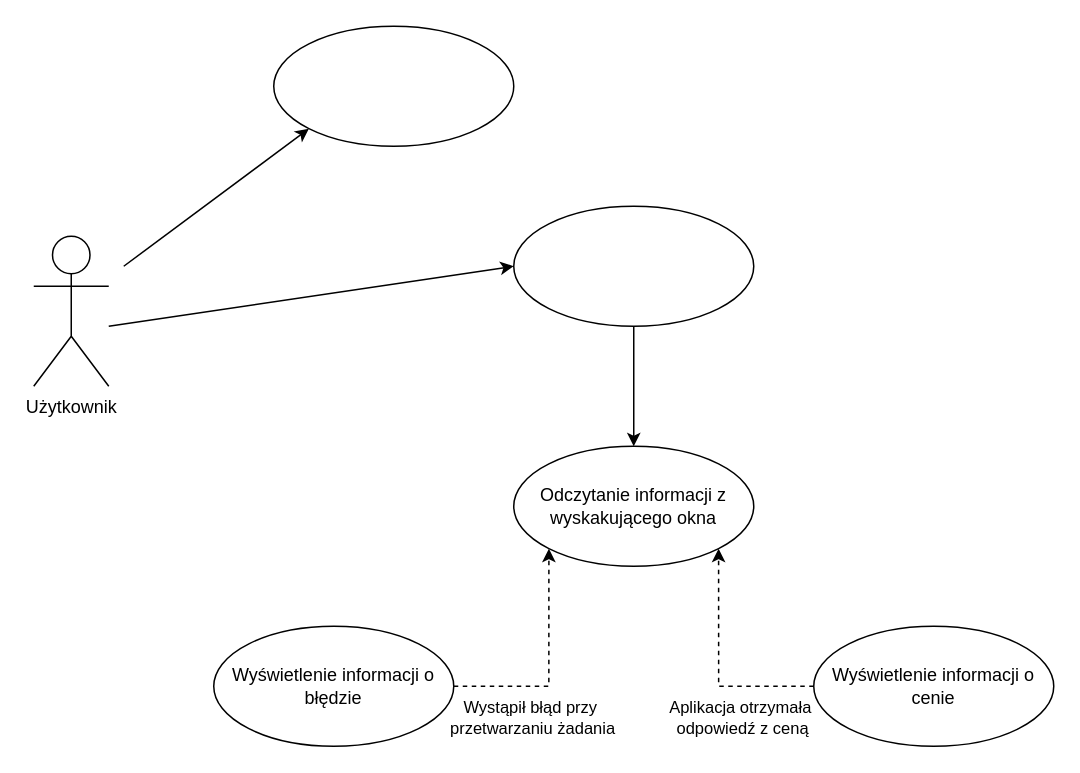
This 1080x773 diagram has some shape labels left out. Here are the shapes that lost their labels. From the top down, the box of each, then its label:
(272, 25, 514, 146): Przeglądanie informacji zawartych na stronie
(512, 205, 754, 326): Wypełnienie cech pojazdu
